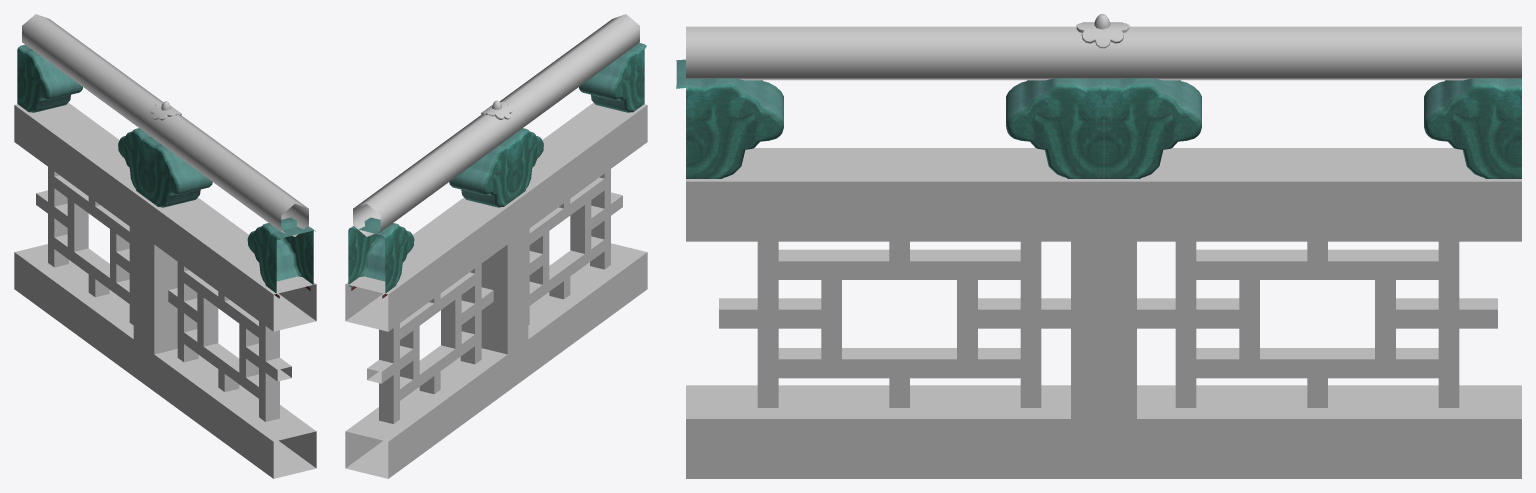
The model's file is SM_Handrail01A.fbx.
3 renders of one model, left to right at view 1: azimuth 30°, elevation 25°; view 2: azimuth 150°, elevation 25°; view 3: azimuth 270°, elevation 25°, orthographic. The views are drawn at different scales.
Visible parts, largest first — view 1: SM_Handrail01A; view 2: SM_Handrail01A; view 3: SM_Handrail01A.
Part boxes in pixels (x1,y1,x2,y2): SM_Handrail01A: (14, 14, 316, 478); SM_Handrail01A: (345, 14, 647, 478); SM_Handrail01A: (676, 14, 1521, 478).
Size of the model in its own units: 6.27 by 66.37 by 38.7.
